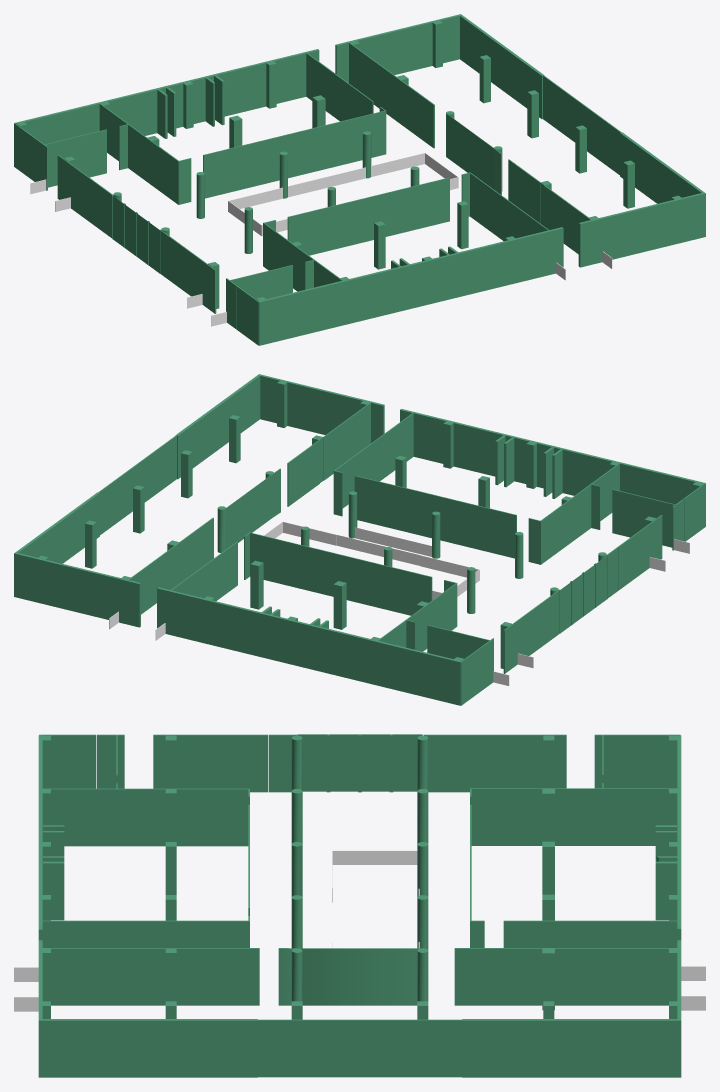
Rendered from AR06-21-modified-extruded-no-floor.fbx.
3 renders of one model, top to bottom at view 1: azimuth 30°, elevation 25°; view 2: azimuth 150°, elevation 25°; view 3: azimuth 270°, elevation 25°, orthographic. The views are drawn at different scales.
Visible parts, largest first — view 1: 3D Solid (×51); view 2: 3D Solid (×50); view 3: 3D Solid (×64).
Boxes of the visible parts, <box> form: 3D Solid (×51): <box>15,14,705,343</box>; 3D Solid (×50): <box>14,374,696,705</box>; 3D Solid (×64): <box>40,734,681,1077</box>.
Size of the model in its own units: 44525 by 44001 by 4000.
